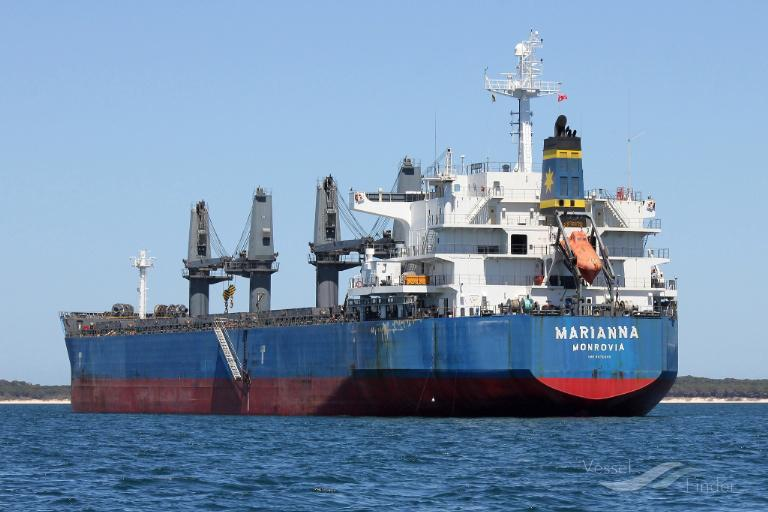OCR: (550, 324, 643, 370)
